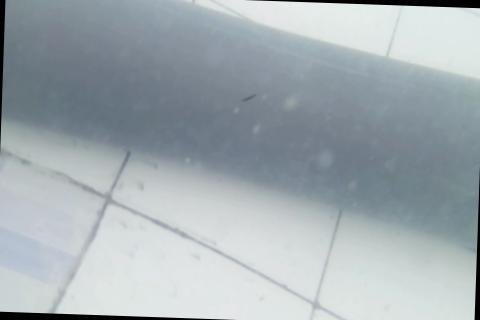keretakan: (240, 88, 259, 109), (479, 111, 480, 130)
